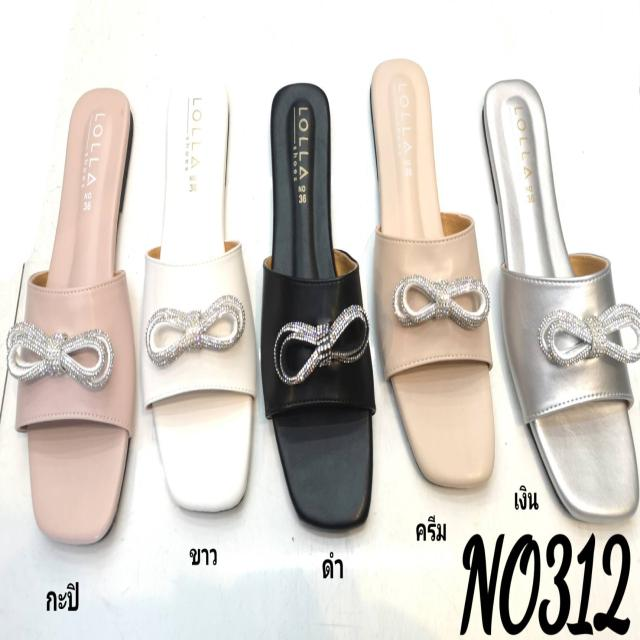black: (256, 81, 372, 527)
cream: (372, 61, 497, 486)
kapi: (22, 85, 132, 545)
silver: (482, 69, 640, 513)
white: (143, 81, 259, 515)
